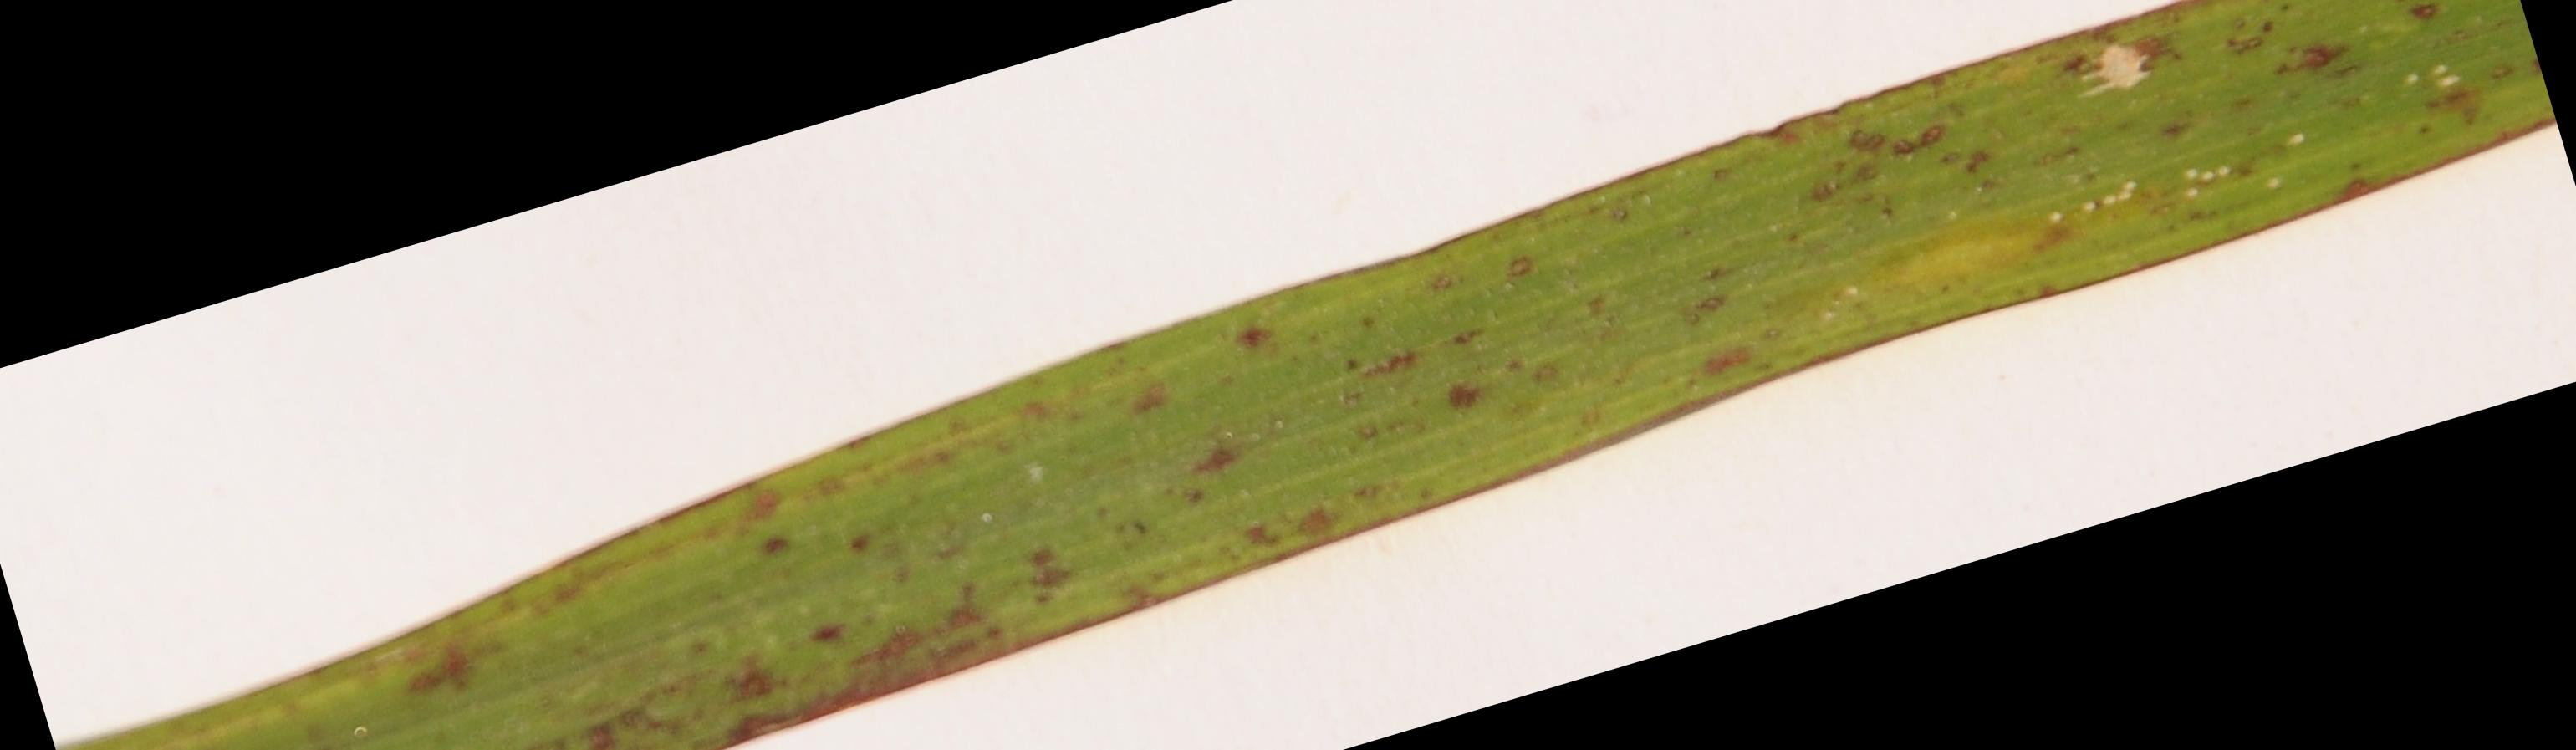leaf_smut: (125, 30, 2453, 694)
